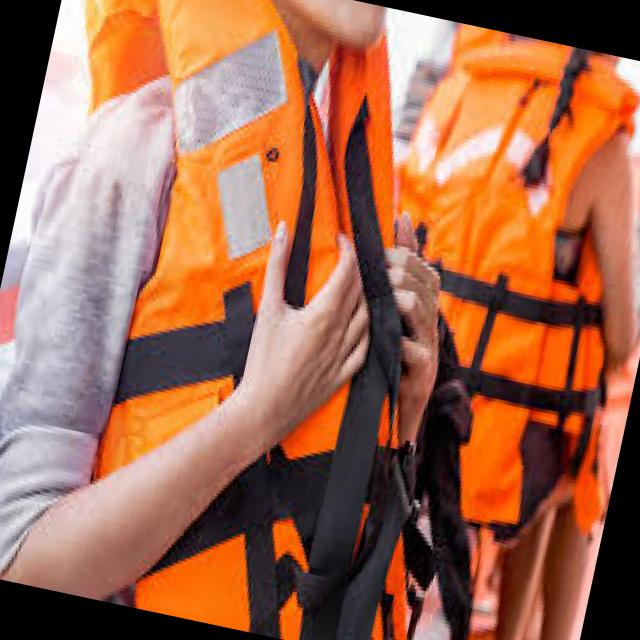Jacket: (0, 0, 403, 556), (418, 62, 640, 508)
